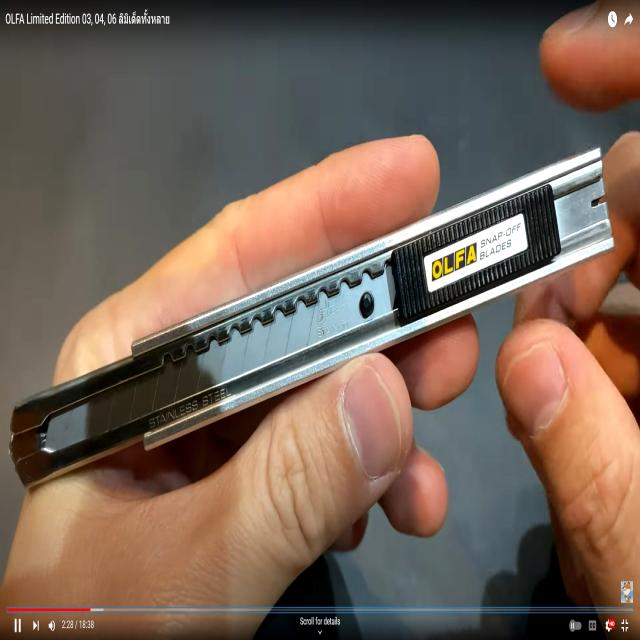cutter: (9, 140, 620, 492)
